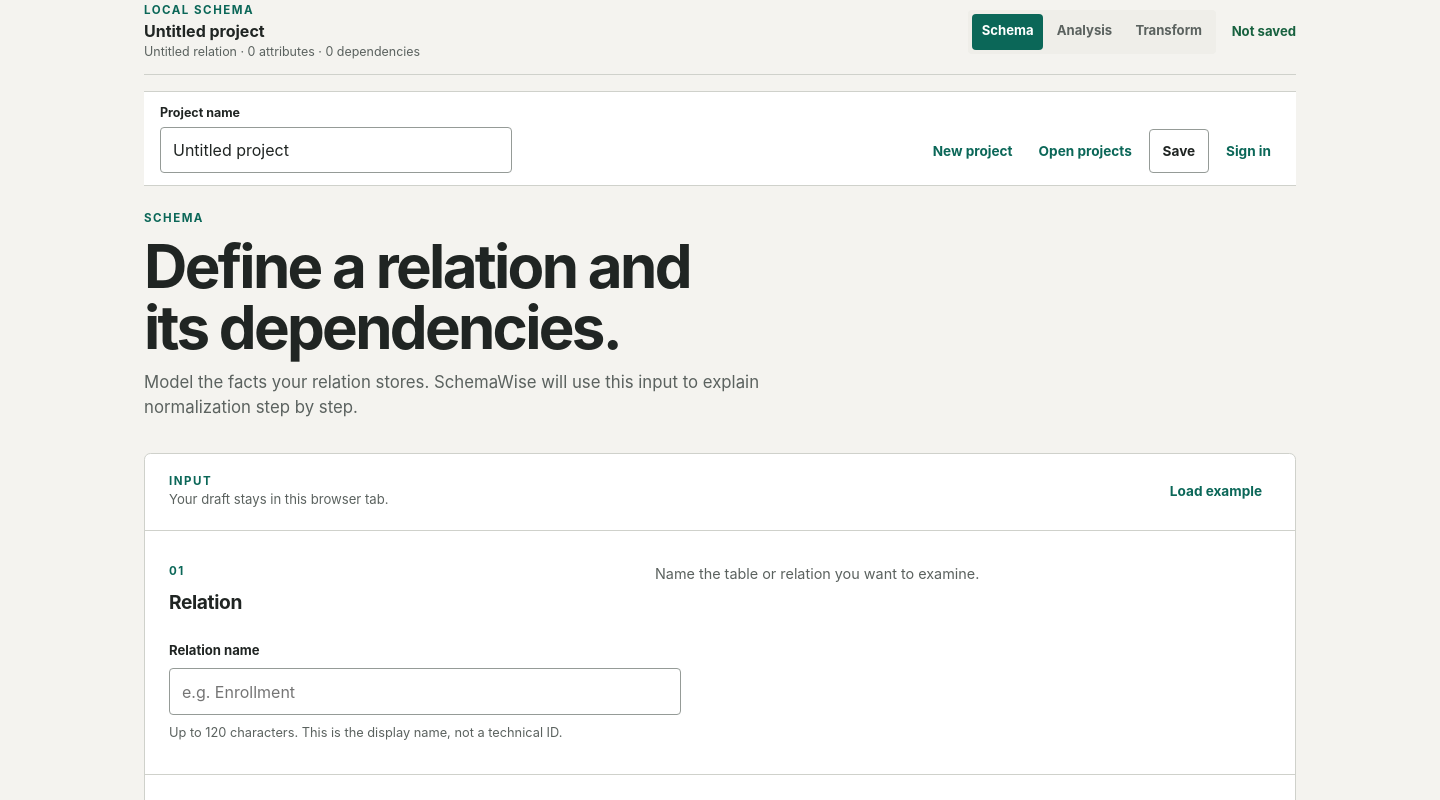
schema analysis interactions › re-analysis keeps previous results visible, then replaces their snapshot
Click the button "Load example" at {"x": 1216, "y": 492}, box [1161,470,1271,514]
(page scrolled)
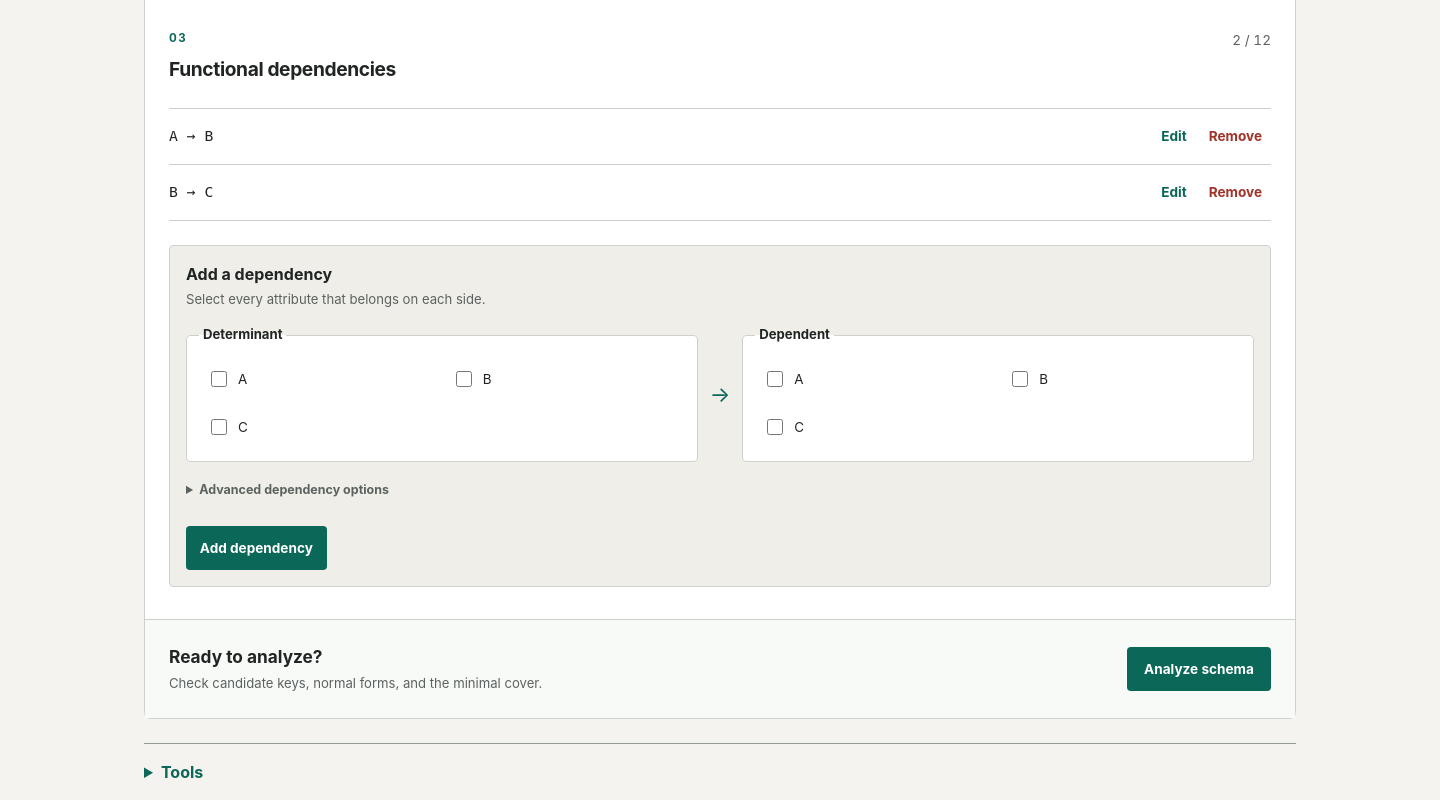
Click the button "Analyze schema" at {"x": 1199, "y": 669}, box [1127,647,1271,691]
(page scrolled)
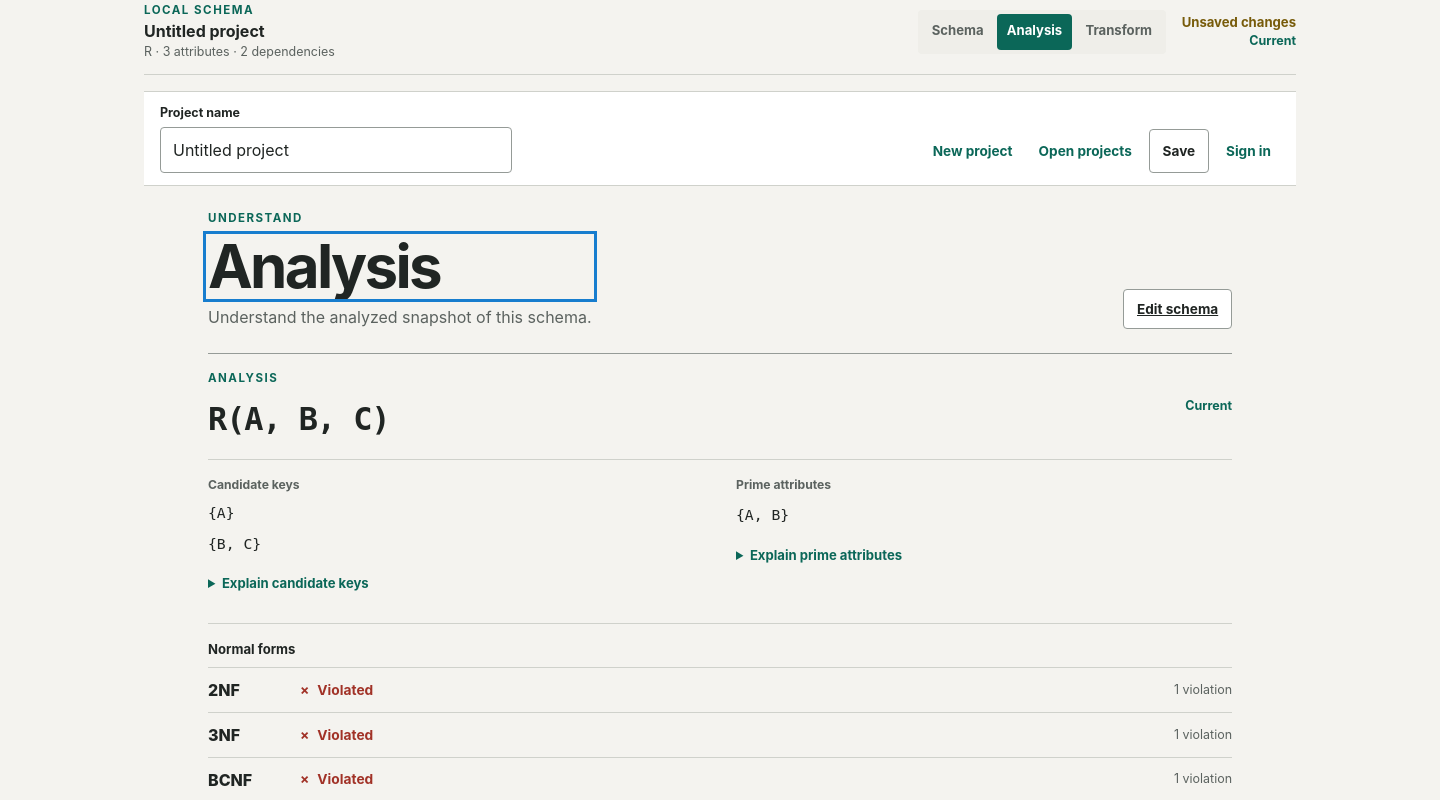
Result: the heading "R(A, B, C)" is shown at [208,395,390,443]
Click the link "Edit schema" at {"x": 1178, "y": 309}, box [1123,289,1232,329]
(page scrolled)
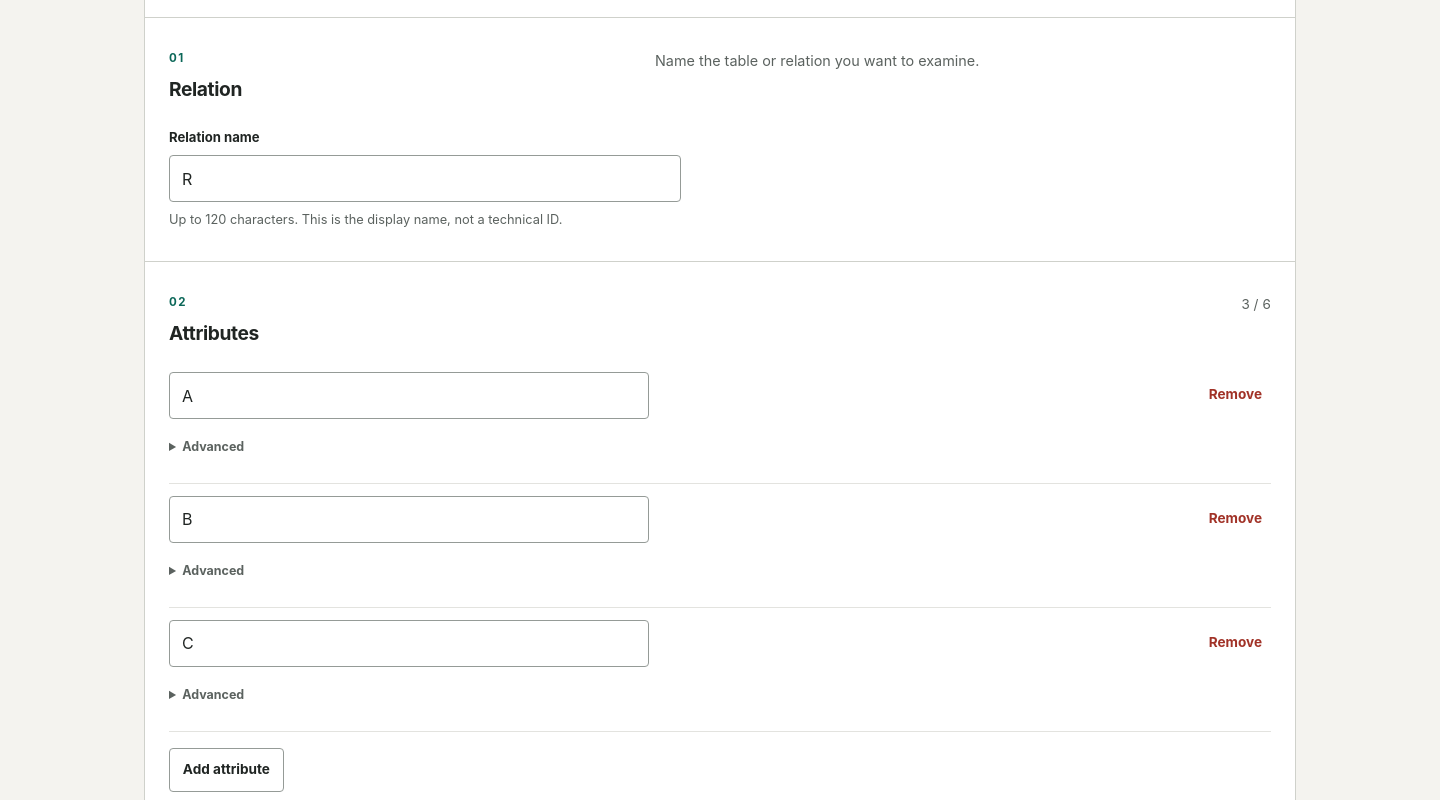
Replace the text in the 1st field named "Attribute 1 name" with "Client" at {"x": 409, "y": 396}, box [169,372,649,419]
(page scrolled)
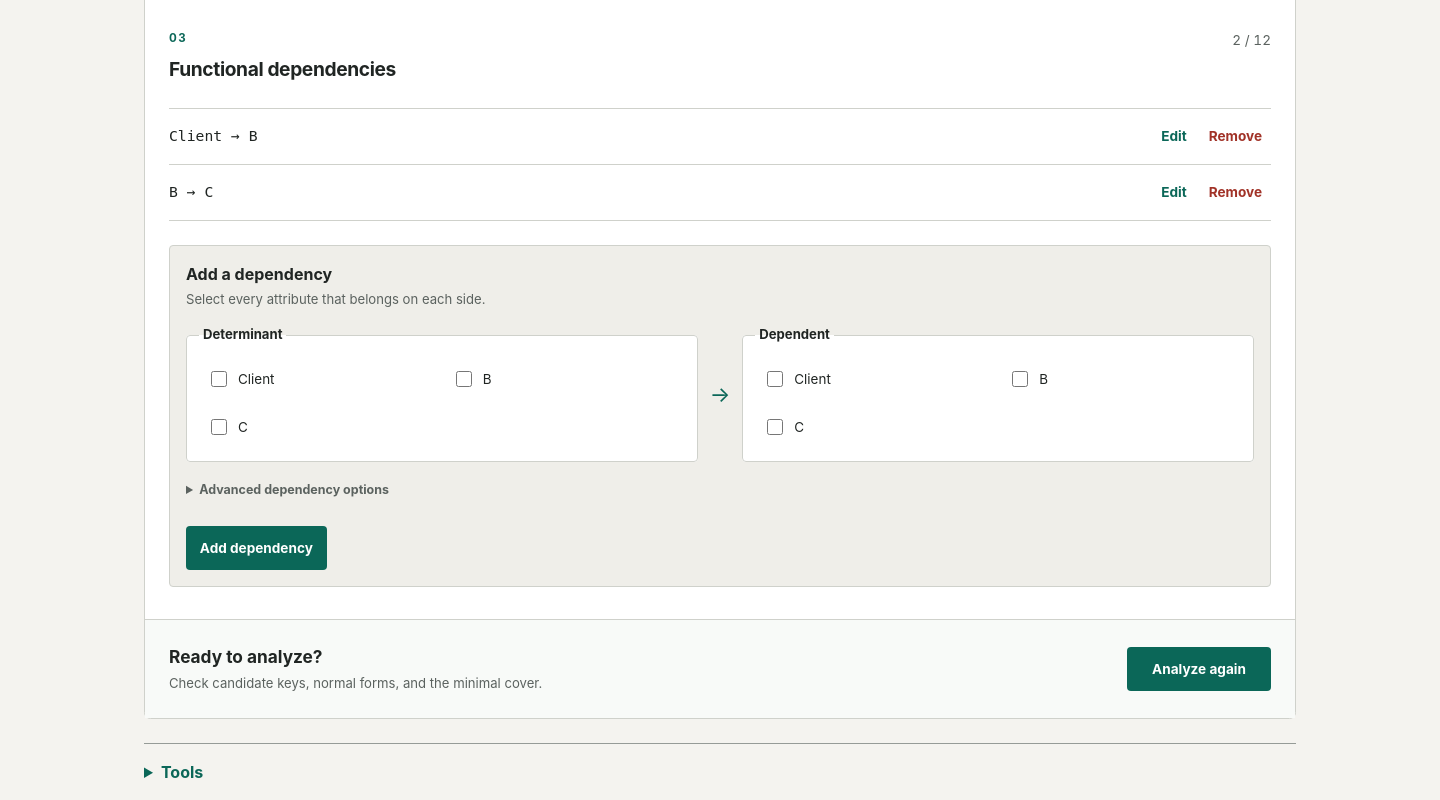
Click the button "Analyze again" at {"x": 1199, "y": 669}, box [1127,647,1271,691]
(page scrolled)
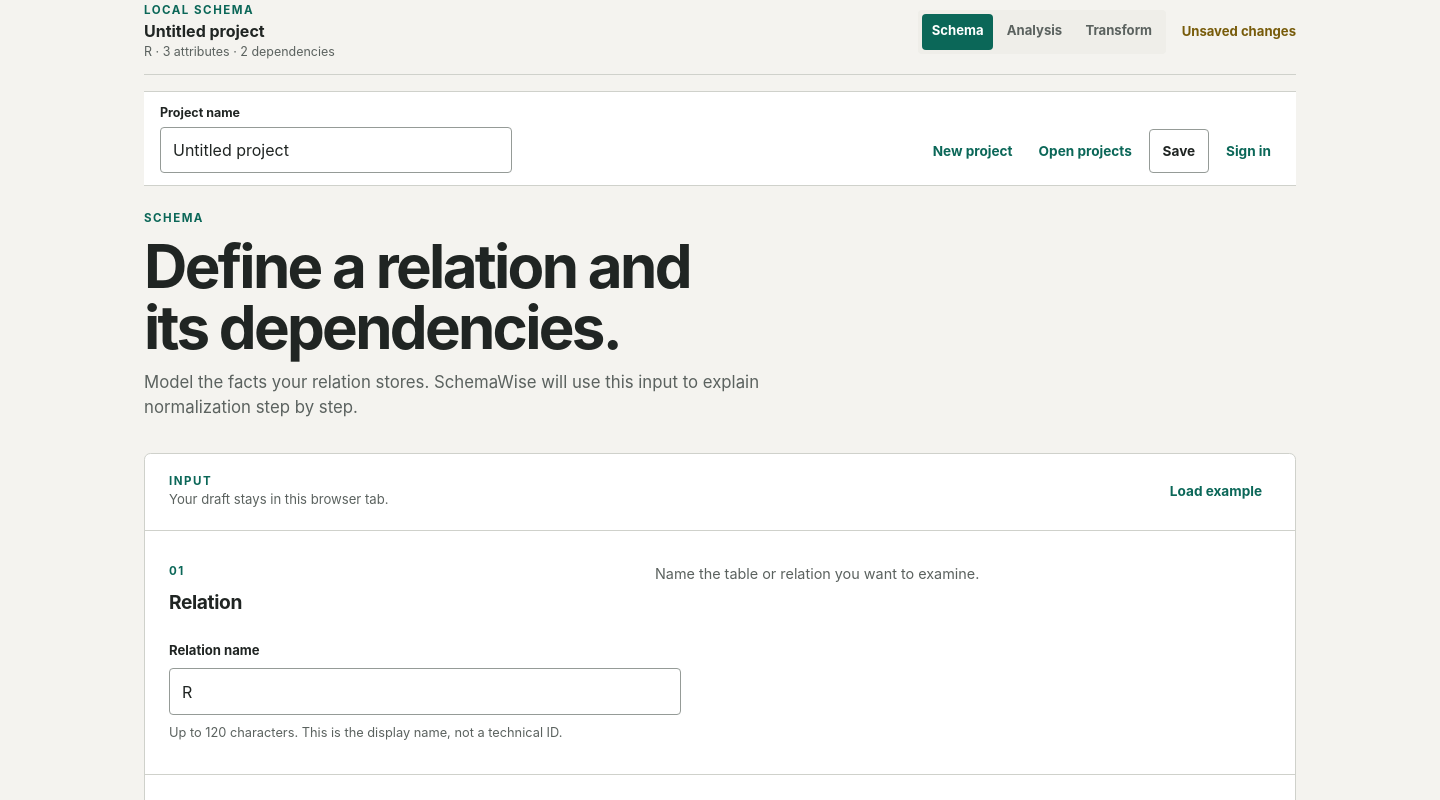
Expected: the text "R(A, B, C)" is not shown
Click the link "Analysis" at {"x": 1034, "y": 30}, box [1007,22,1062,38]
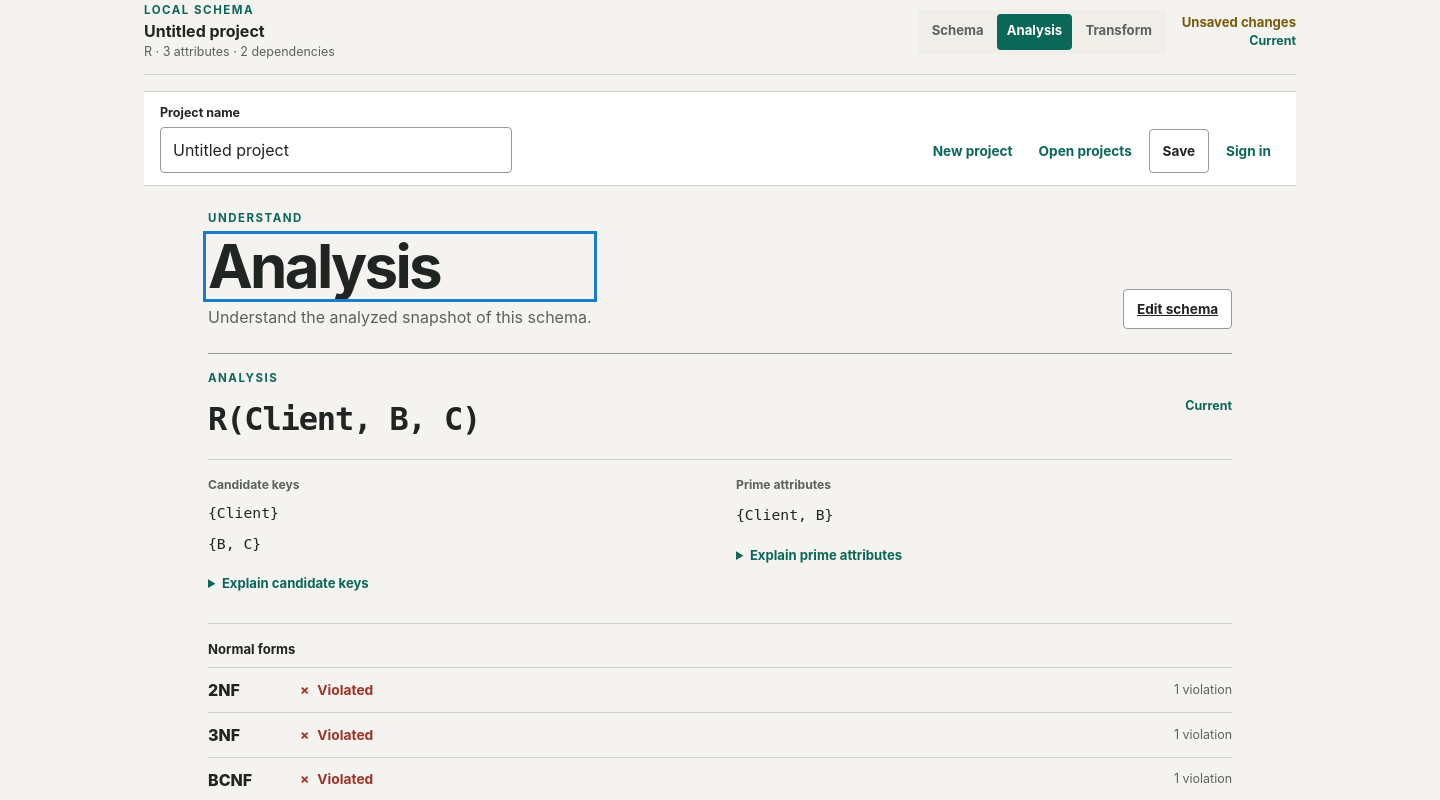
Result: the heading "R(Client, B, C)" is shown at [208,395,480,443]
